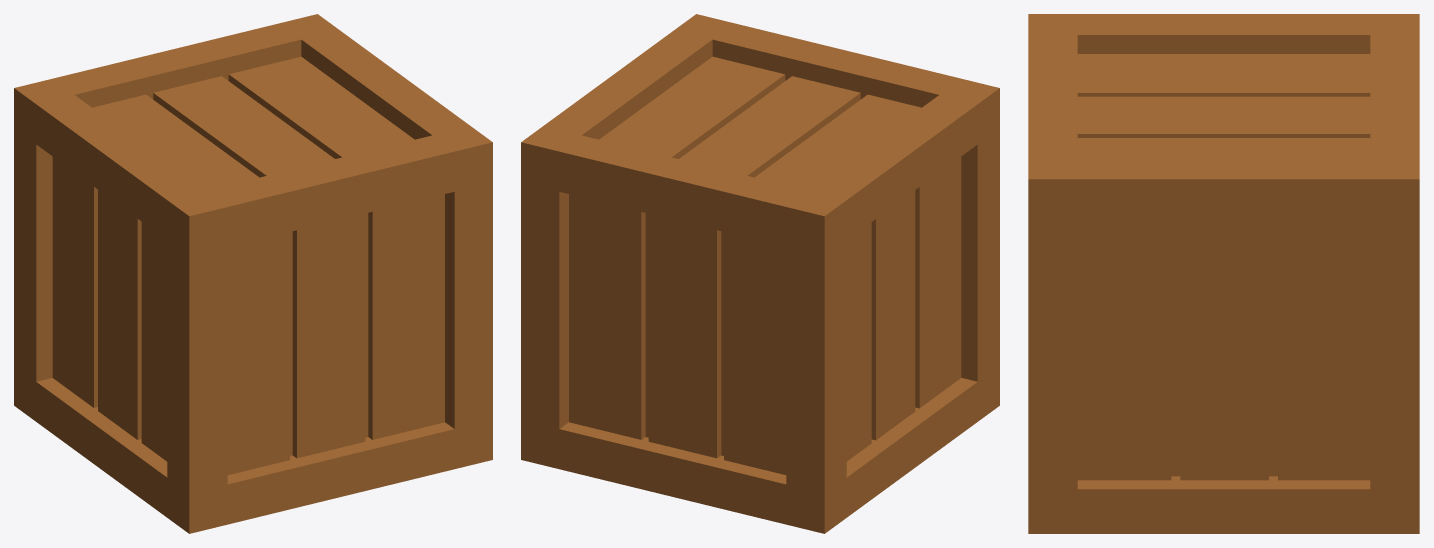
File: GameCrate.glb
The picture shows the model from 3 angles, left to right: view 1: azimuth 30°, elevation 25°; view 2: azimuth 150°, elevation 25°; view 3: azimuth 270°, elevation 25°; orthographic projection. The views are drawn at different scales.
Parts seen in each view (by area): view 1: crate_; view 2: crate_; view 3: crate_.
Part boxes in pixels (bbox=[...]): crate_: bbox=[14, 14, 492, 533]; crate_: bbox=[521, 14, 999, 533]; crate_: bbox=[1028, 14, 1419, 533].
Bounding box in the file's own units: 2 × 2 × 2.
